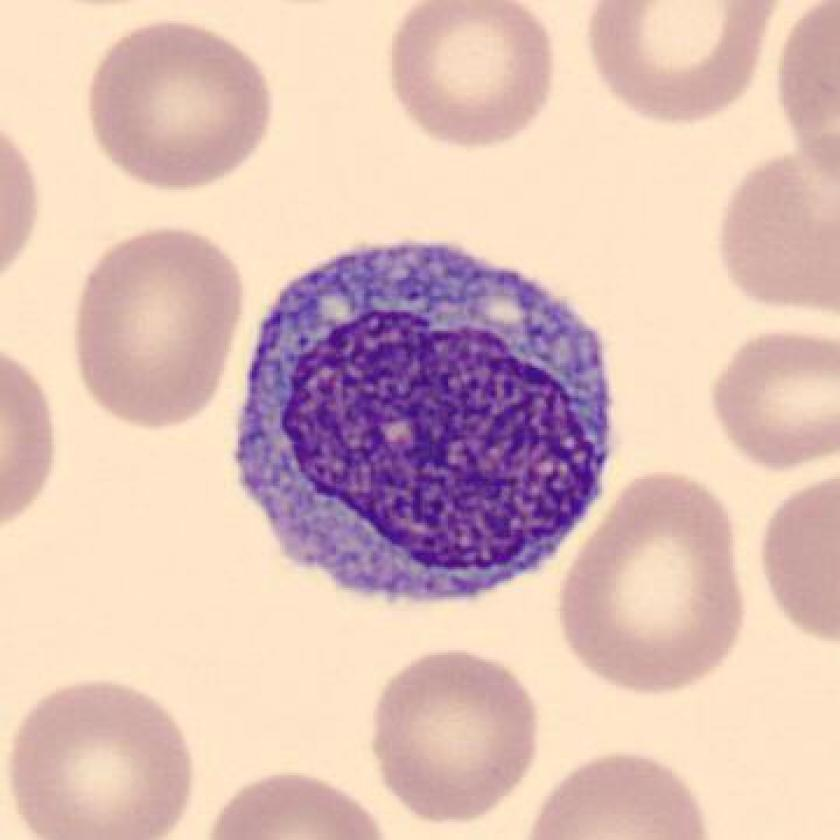monocyte: (220, 230, 631, 626)
